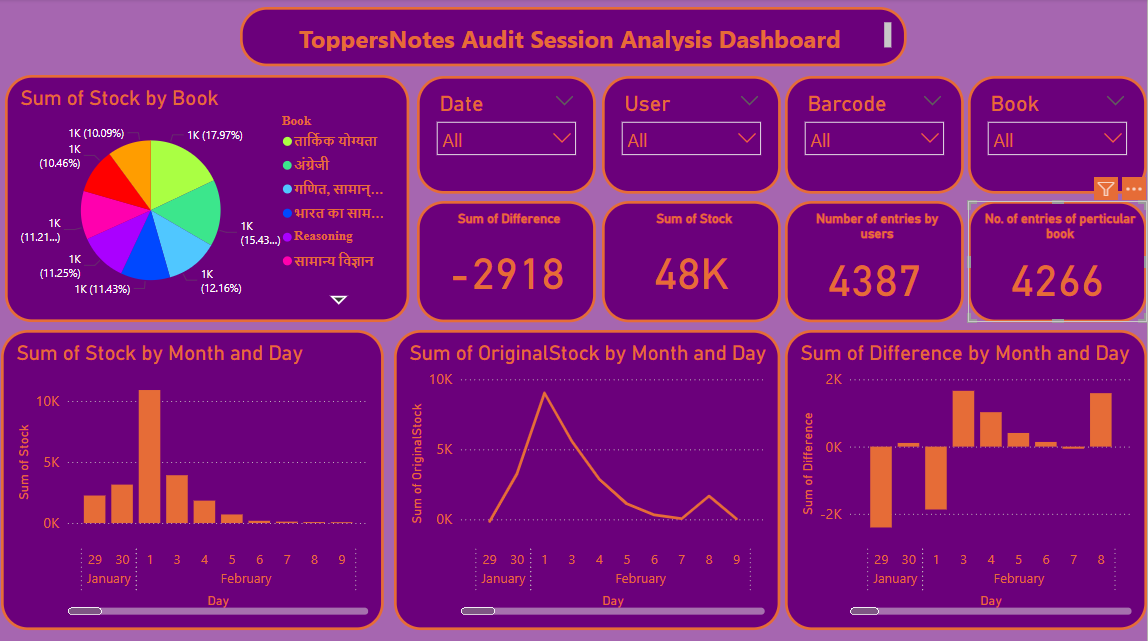

What the dashboard file says about the page in this screenshot:
{"tool":"powerbi","page":{"name":"Page 1","canvas":[1280,720],"ordinal":0},"visuals":[{"type":"clusteredColumnChart","fields":{"Category":["January_Auditing_Barcodes_Separated_2.Date.Variation.Date Hierarchy.Month","January_Auditing_Barcodes_Separated_2.Date.Variation.Date Hierarchy.Day"],"Y":["Sum(January_Auditing_Barcodes_Separated_2.Stock)"]},"box":[4.6,368,425.8,334],"z":0},{"type":"slicer","fields":{"Values":["January_Auditing_Barcodes_Separated_2.Date"]},"box":[467.9,85.7,199,131.3],"z":1000},{"type":"clusteredColumnChart","fields":{"Category":["January_Auditing_Barcodes_Separated_2.Date.Variation.Date Hierarchy.Month","January_Auditing_Barcodes_Separated_2.Date.Variation.Date Hierarchy.Day"],"Y":["Sum(January_Auditing_Barcodes_Separated_2.Difference)"]},"box":[877.1,368.4,402.9,334],"z":2000},{"type":"card","title":"Sum of Difference","fields":{"Values":["Sum(January_Auditing_Barcodes_Separated_2.Difference)"]},"box":[467.9,224.7,198.9,135.1],"z":3000},{"type":"card","title":"Sum of Stock","fields":{"Values":["Sum(January_Auditing_Barcodes_Separated_2.Stock)"]},"box":[673.1,224.7,198.9,135.1],"z":4000},{"type":"slicer","fields":{"Values":["January_Auditing_Barcodes_Separated_2.User"]},"box":[673.1,85.7,199,131.3],"z":5000},{"type":"card","title":"Number of entries by users","fields":{"Values":["January_Auditing_Barcodes_Separated_2.No. of entries of perticular book"]},"box":[877.1,224.4,198.9,135.1],"z":6000},{"type":"slicer","fields":{"Values":["January_Auditing_Barcodes_Separated_2.Barcode"]},"box":[877,85.7,199,131.3],"z":7000},{"type":"slicer","fields":{"Values":["January_Auditing_Barcodes_Separated_2.Book"]},"box":[1081,85.7,199,131.3],"z":8000},{"type":"card","title":"No. of entries of perticular book","fields":{"Values":["January_Auditing_Barcodes_Separated_2.Count of Difference"]},"box":[1081.1,224.4,198.9,135.1],"z":9000},{"type":"pieChart","fields":{"Category":["January_Auditing_Barcodes_Separated_2.Book"],"Y":["Sum(January_Auditing_Barcodes_Separated_2.Stock)"]},"box":[8.9,84.1,450,275.4],"z":10000},{"type":"textbox","box":[270.3,8.9,742,66.3],"z":11000},{"type":"lineChart","fields":{"Category":["January_Auditing_Barcodes_Separated_2.Date.Variation.Date Hierarchy.Month","January_Auditing_Barcodes_Separated_2.Date.Variation.Date Hierarchy.Day"],"Y":["Sum(January_Auditing_Barcodes_Separated_2.OriginalStock)"]},"box":[442.4,368.4,429.6,334],"z":12000}]}

Visuals, with their boxes in screenshot pixels (x1, y1, x2, y2), scaled from the page's 1280x720 canvas onto the 1148x641 screenshot:
clusteredColumnChart - January_Auditing_Barcodes_Separated_2.Date.Variation.Date Hierarchy.Month x January_Auditing_Barcodes_Separated_2.Date.Variation.Date Hierarchy.Day: bbox(4, 328, 386, 625)
slicer - January_Auditing_Barcodes_Separated_2.Date: bbox(420, 76, 598, 193)
clusteredColumnChart - January_Auditing_Barcodes_Separated_2.Date.Variation.Date Hierarchy.Month x January_Auditing_Barcodes_Separated_2.Date.Variation.Date Hierarchy.Day: bbox(787, 328, 1147, 625)
"Sum of Difference" card: bbox(420, 200, 598, 320)
"Sum of Stock" card: bbox(604, 200, 782, 320)
slicer - January_Auditing_Barcodes_Separated_2.User: bbox(604, 76, 782, 193)
"Number of entries by users" card: bbox(787, 200, 965, 320)
slicer - January_Auditing_Barcodes_Separated_2.Barcode: bbox(787, 76, 965, 193)
slicer - January_Auditing_Barcodes_Separated_2.Book: bbox(970, 76, 1147, 193)
"No. of entries of perticular book" card: bbox(970, 200, 1147, 320)
pieChart - January_Auditing_Barcodes_Separated_2.Book x Sum(January_Auditing_Barcodes_Separated_2.Stock): bbox(8, 75, 412, 320)
textbox: bbox(242, 8, 908, 67)
lineChart - January_Auditing_Barcodes_Separated_2.Date.Variation.Date Hierarchy.Month x January_Auditing_Barcodes_Separated_2.Date.Variation.Date Hierarchy.Day: bbox(397, 328, 782, 625)
